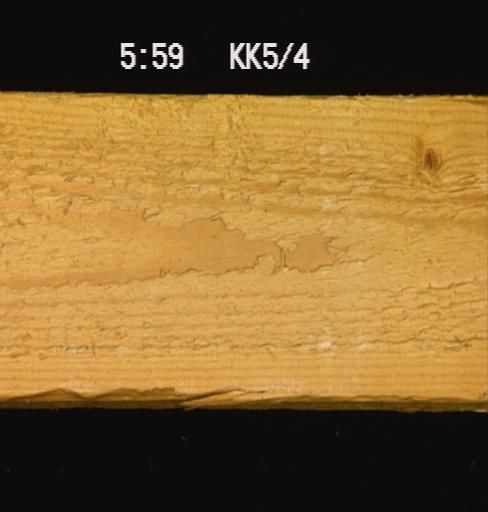small_knot: (419, 142, 446, 177)
split: (434, 93, 487, 107)
wave: (0, 377, 487, 407)
